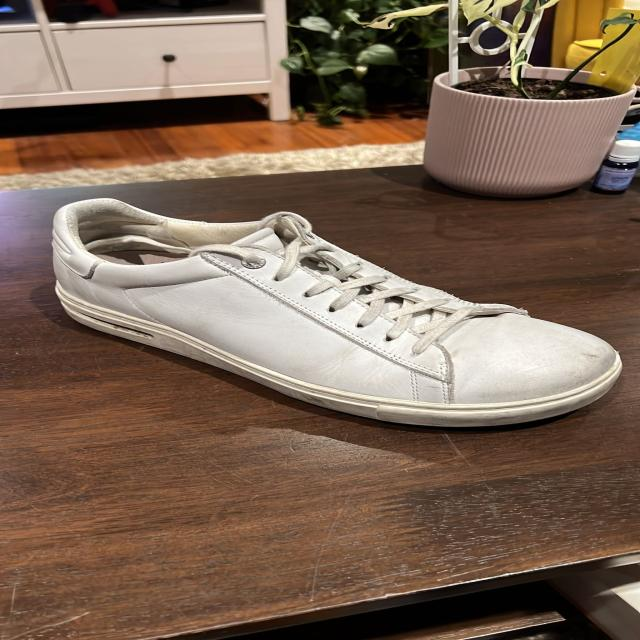shoe: (50, 197, 627, 431)
